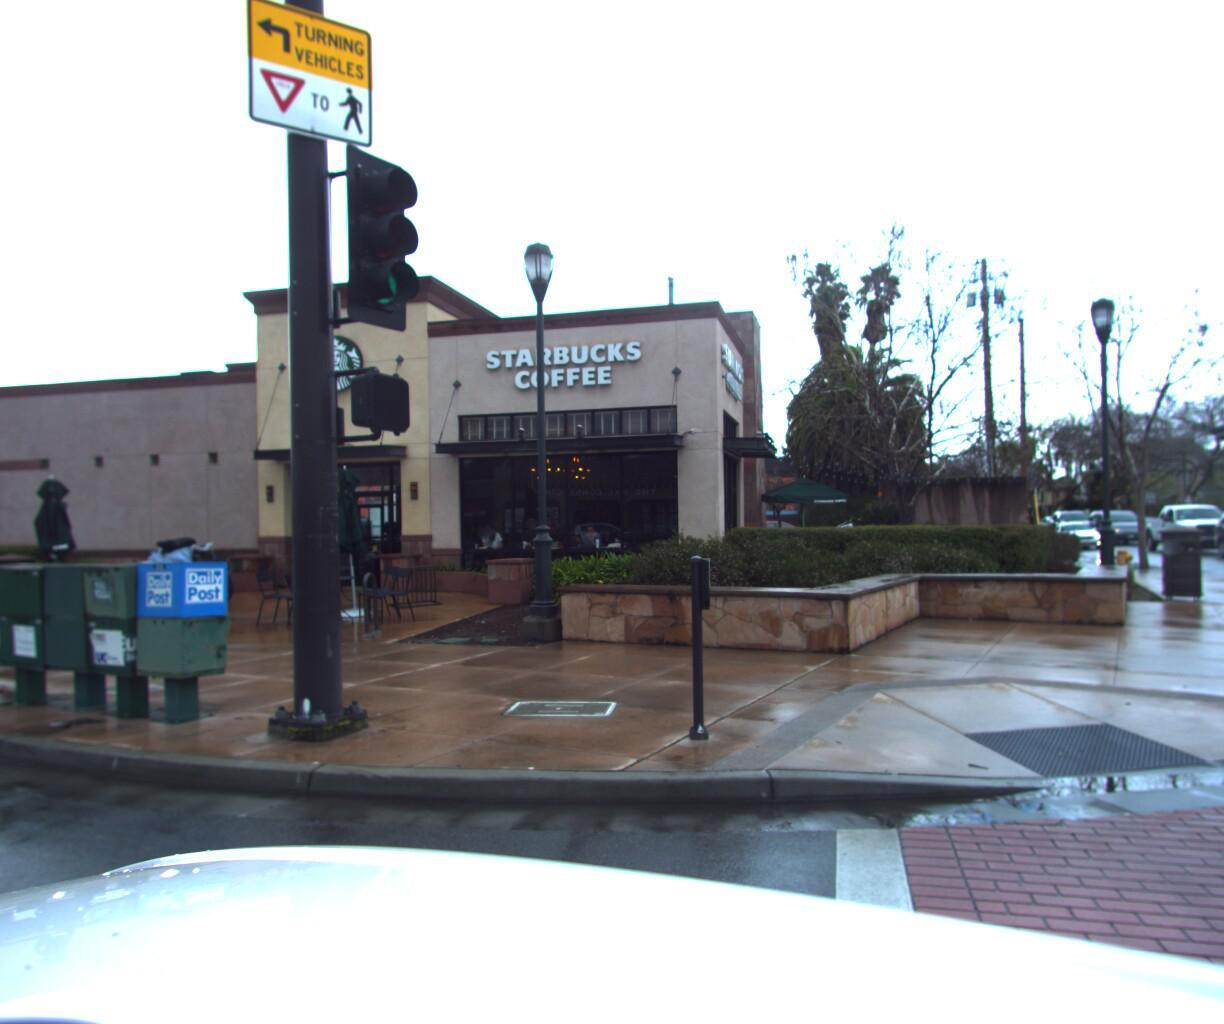car: (1137, 499, 1224, 552), (823, 509, 931, 549), (0, 538, 52, 603), (1033, 510, 1110, 551), (1080, 505, 1158, 543), (0, 533, 44, 589), (1213, 497, 1224, 560)
